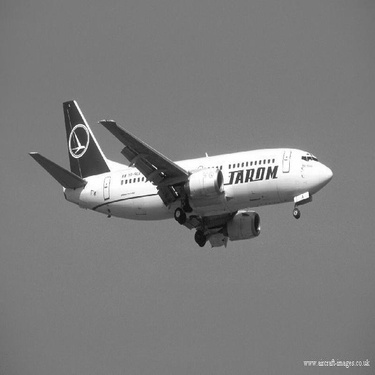airplane: (21, 88, 338, 259)
